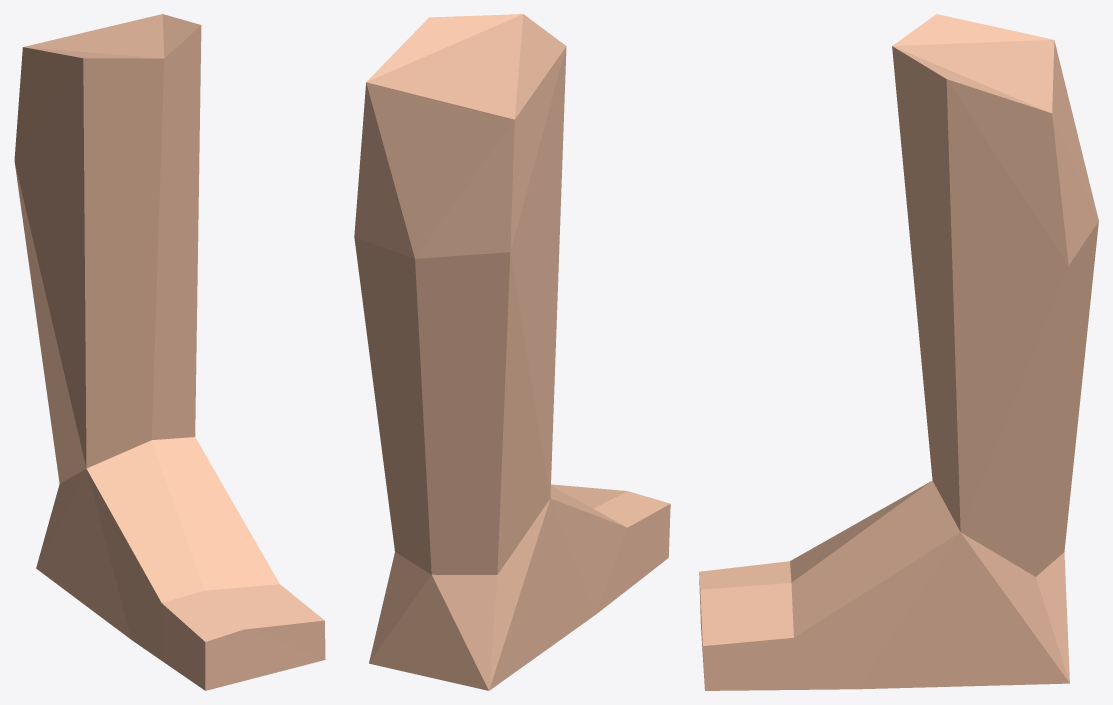
The model's file is Chr_LegRight_Male_00_Static.fbx.
The picture shows the model from 3 angles, left to right: view 1: azimuth 30°, elevation 25°; view 2: azimuth 150°, elevation 25°; view 3: azimuth 270°, elevation 25°; orthographic projection. The views are drawn at different scales.
Parts seen in each view (by area): view 1: Chr_LegRight_Male_00_Static; view 2: Chr_LegRight_Male_00_Static; view 3: Chr_LegRight_Male_00_Static.
Boxes of the visible parts, box(x1,y1,x2,y2) form: Chr_LegRight_Male_00_Static: box(14, 14, 325, 690); Chr_LegRight_Male_00_Static: box(354, 14, 670, 690); Chr_LegRight_Male_00_Static: box(699, 14, 1098, 690).
Bounding box in the file's own units: 0.1095 × 0.404 × 0.242.
